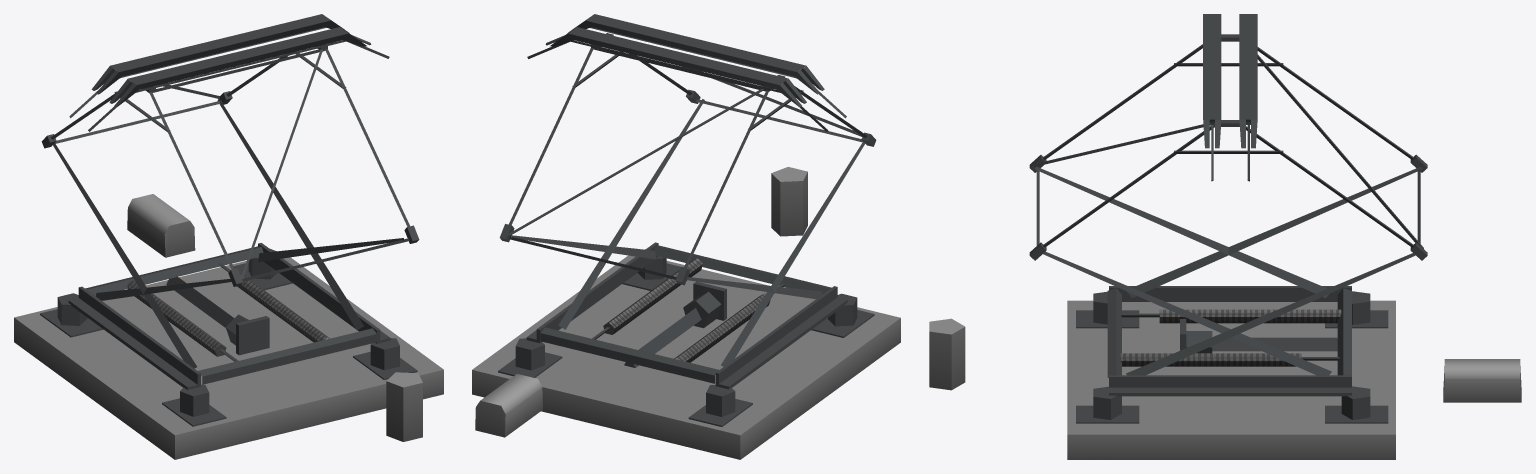
File: HS9000_PANTA.glb
3 views of the same model, side by side, from view 1: azimuth 30°, elevation 25°; view 2: azimuth 150°, elevation 25°; view 3: azimuth 270°, elevation 25° (orthographic). The views are drawn at different scales.
Visible parts, largest first — view 1: Mesh1; view 2: Mesh1; view 3: Mesh1.
Boxes of the visible parts, x1=… form: Mesh1: x1=14, y1=14, x2=443, y2=459; Mesh1: x1=472, y1=14, x2=900, y2=459; Mesh1: x1=929, y1=14, x2=1521, y2=459.
Bounding box in the file's own units: 4.48 × 4.53 × 7.46.
Materials: 3 (3 with a texture image).
